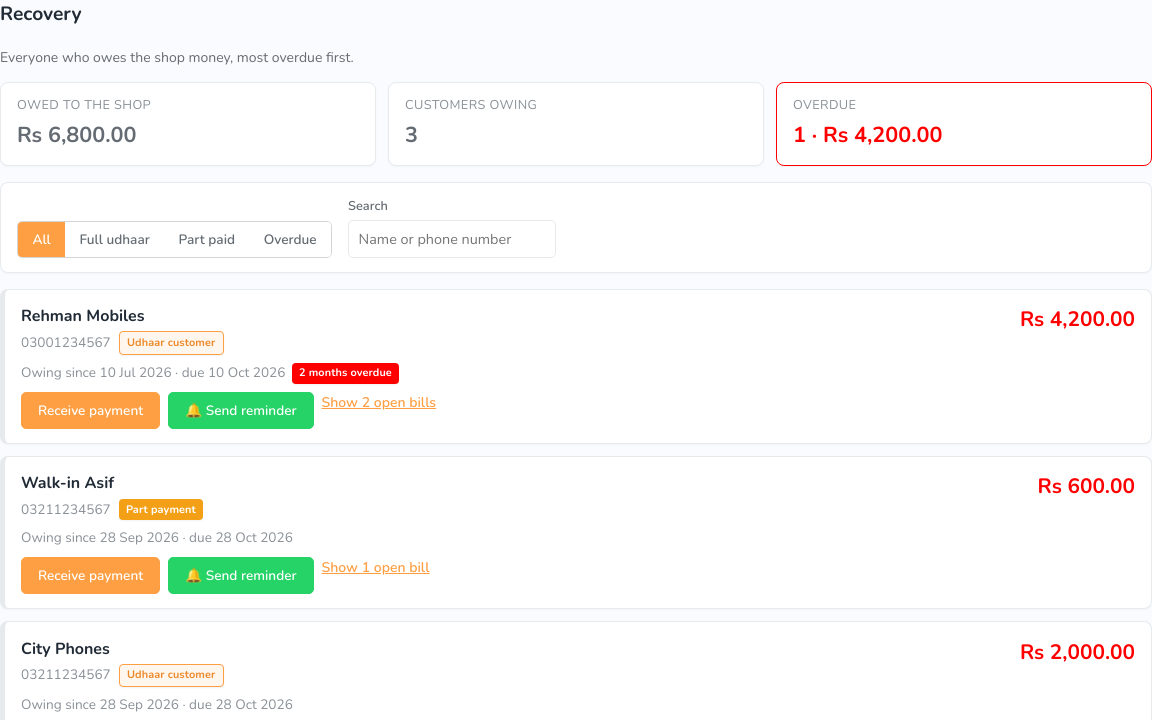
it: the recovery page › shows only the full-udhaar bills under Full udhaar, and only the part-paid ones under Part paid
Check: the element with test id "recovery-7" is shown, box left=0, top=289, right=1151, bottom=444
Click the button "Full udhaar" at (115, 239), box left=65, top=222, right=164, bottom=256
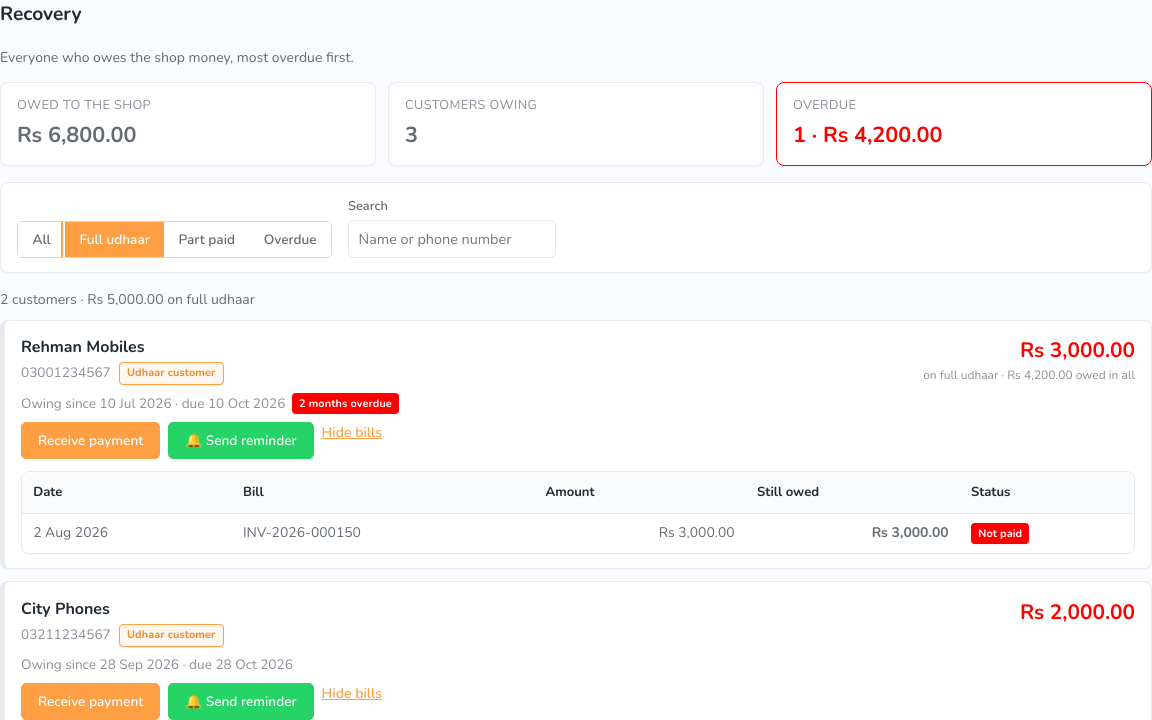
Check: the text "INV-2026-000150" is shown, box left=232, top=514, right=534, bottom=553
Check: the text with test id "recovery-amount-7" reads "Rs 3,000.00", box left=1020, top=336, right=1135, bottom=364
Check: the element with test id "recovery-7" shows "on full udhaar · Rs 4,200.00 owed in all", box left=0, top=320, right=1151, bottom=569
Click the button "Part paid" at (207, 239), box left=164, top=222, right=249, bottom=256
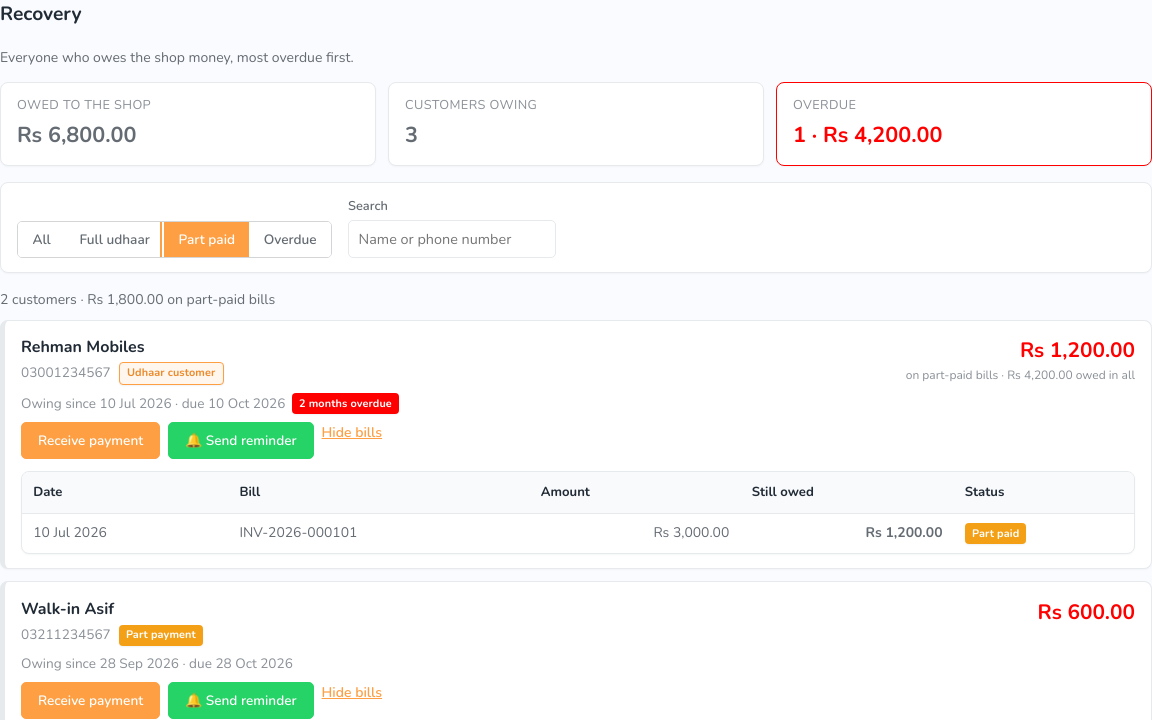
Check: the text "INV-2026-000101" is shown, box left=228, top=514, right=530, bottom=553
Check: the text "INV-2026-000150" is gone
Check: the text with test id "recovery-amount-7" reads "Rs 1,200.00", box left=1020, top=336, right=1135, bottom=364
Click the button "All" at (42, 239), box left=18, top=222, right=65, bottom=256
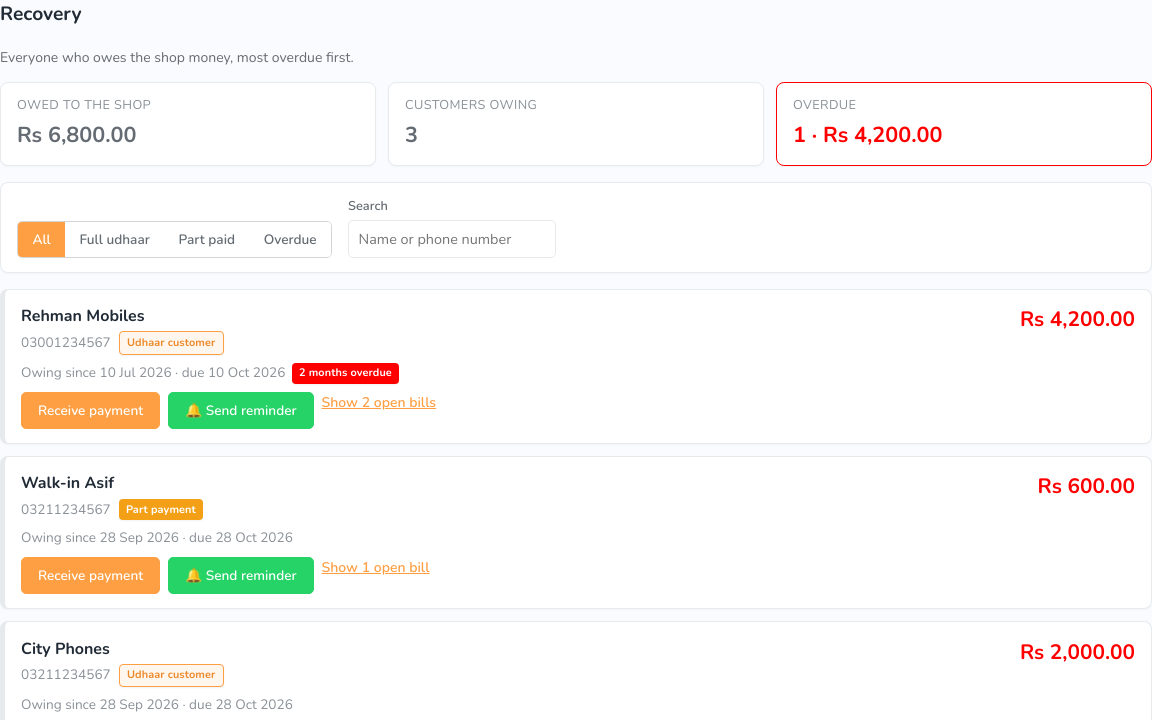
Check: the text with test id "recovery-amount-7" reads "Rs 4,200.00", box left=1020, top=305, right=1135, bottom=333
Check: the text with test id "recovery-summary" is gone
